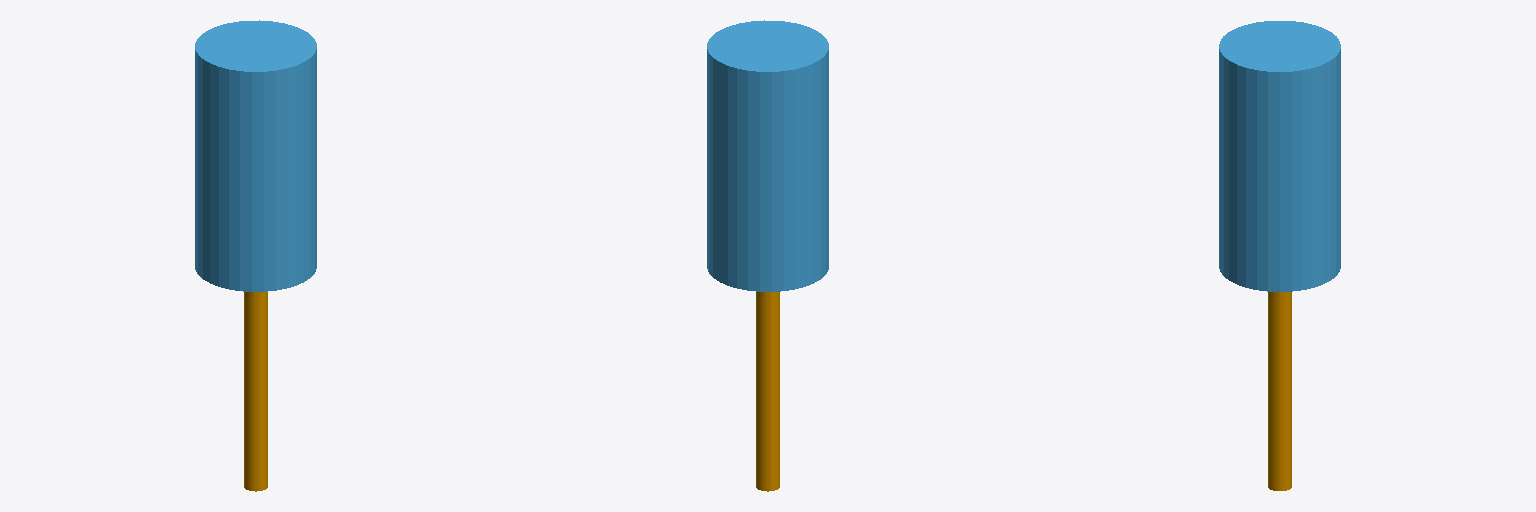
The robot description file, URDF, robot "screwdriver_on_the_table":
<?xml version="1.0" ?>
<!-- this is the one without any virtual joints and links -->
<robot name="screwdriver_on_the_table">
<link name="screwdriver_stick">
    <inertial>
      <mass value="0.05"/>
      <!-- <friction value="1.0"/> -->
      <inertia ixx="0.000041979" ixy="0.0" ixz="0.0" iyy="0.000041979" iyz="0.0" izz="0.000000625"/>
    </inertial>
    <visual>
        <origin rpy="0 0 0" xyz="0 0 0.05"/>
        <geometry>
            <cylinder radius="0.005" length="0.1"/>
        </geometry>
        <!-- <material name="White">
	 	    <color rgba="0.9 0.9 0.9 0.5"/>
        </material> -->
    </visual>
    <collision>
        <origin rpy="0 0 0" xyz="0 0 0.05"/>
        <geometry>
            <cylinder radius="0.005" length="0.1"/>
        </geometry>
    </collision>
</link>

<gazebo reference="screwdriver_body">
    <mu1>1.0</mu1>
    <mu2>1.0</mu2>
    <!-- Isaac Sim maps mu1/mu2 to PhysX static/dynamic friction during URDF→USD import -->
</gazebo>

<joint name="screwdriver_stick_body_joint" type="fixed">
    <parent link="screwdriver_stick"/>
    <child link="screwdriver_body"/>
    <origin rpy="0 0 0" xyz="0 0 0.1"/> 
    <axis xyz="0 0 1"/>
</joint>

<link name="screwdriver_body">
    <inertial>
      <mass value="0.1"/>
      <inertia ixx="0.000099179" ixy="0.0" ixz="0.0" iyy="0.000099179" iyz="0.0" izz="0.000031692"/>
    </inertial>
    <visual>
        <origin rpy="0 0 0" xyz="0 0 0.05"/>
        <geometry>
            <cylinder radius="0.025176" length="0.1"/>
        </geometry>
        <!-- <material name="Red1">
	 	    <color rgba="0.9 0. 0. 0.5"/>
        </material> -->
    </visual>
    <collision>
        <origin rpy="0 0 0" xyz="0 0 0.05"/>
        <geometry>
            <cylinder radius="0.025176" length="0.1"/>
        </geometry>
    </collision>
</link>

<!-- <joint name="screwdriver_body_cap_joint" type="revolute">
    <parent link="screwdriver_body"/>
    <child link="screwdriver_cap"/>
    <origin rpy="0 0 0" xyz="0 0 0.1"/> 
    <axis xyz="0 0 1"/>
</joint>

<link name="screwdriver_cap">
    <inertial>
      <mass value="0.005"/>
      <inertia ixx="0.00001" ixy="0.0" ixz="0.0" iyy="0.000005" iyz="0.0" izz="0.000005"/>
    </inertial>
    <visual>
        <origin rpy="0 0 0" xyz="0 0 0.0006"/>
        <geometry>
            <cylinder radius="0.02" length="0.001"/>
        </geometry>
        <material name="Yellow">
	 	    <color rgba="0.9 0.9 0. 1.0"/>
        </material>
    </visual>
    <collision>
        <origin rpy="0 0 0" xyz="0 0 0.0005"/>
        <geometry>
            <cylinder radius="0.02" length="0.001"/>
        </geometry>
    </collision>
</link> -->

</robot>

--- Facts derived from the render (not from the file) ---
The picture shows the robot from 3 angles, left to right: view 1: azimuth 30°, elevation 25°; view 2: azimuth 150°, elevation 25°; view 3: azimuth 270°, elevation 25°; orthographic projection.
Model screwdriver_on_the_table with 2 links and 1 joints (1 fixed), rooted at screwdriver_stick, posed every joint at zero.
Links seen in each view (by area): view 1: screwdriver_body, screwdriver_stick; view 2: screwdriver_body, screwdriver_stick; view 3: screwdriver_body, screwdriver_stick.
Link boxes in pixels (left/top/right/bottom): screwdriver_body: left=195, top=20, right=316, bottom=291; screwdriver_stick: left=244, top=292, right=267, bottom=491; screwdriver_body: left=707, top=20, right=828, bottom=291; screwdriver_stick: left=756, top=292, right=779, bottom=491; screwdriver_body: left=1219, top=21, right=1340, bottom=291; screwdriver_stick: left=1268, top=292, right=1291, bottom=490.
Bounding box of the posed robot: 0.0504 × 0.0504 × 0.2 m (x, y, z).
Geometry: primitives only (box / cylinder / sphere), no mesh files.
